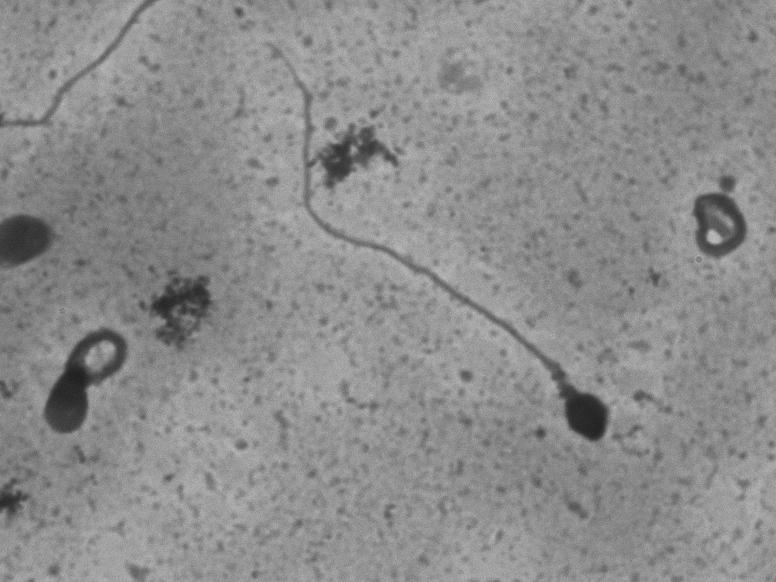Abnormal: (282, 89, 625, 453), (19, 284, 140, 461)
